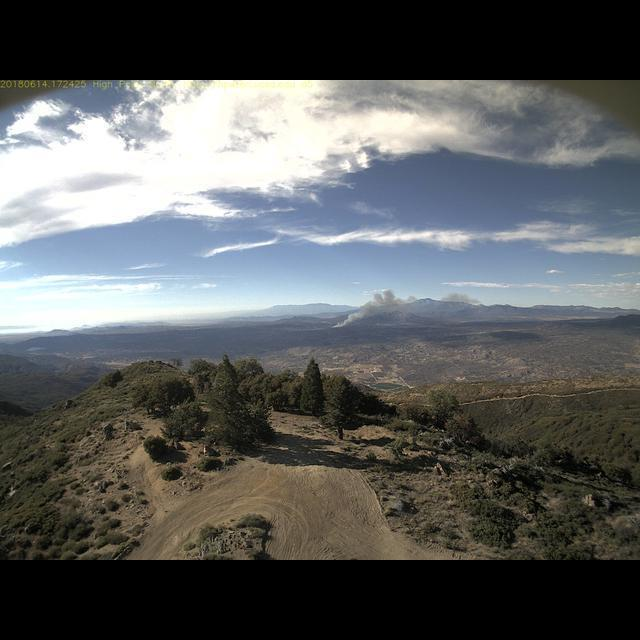Smoke: (327, 286, 482, 330)
